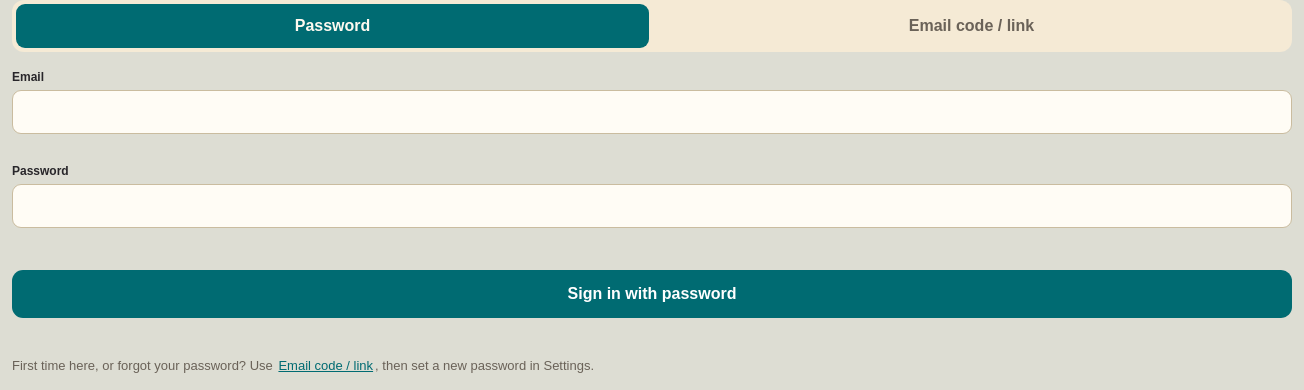
Test: in-app email login › shows email rate limits without moving to the verification step
The image size is (1304, 390).
Step 1. Click the tab "Email code / link" → (972, 26), box [655,4,1288,48]
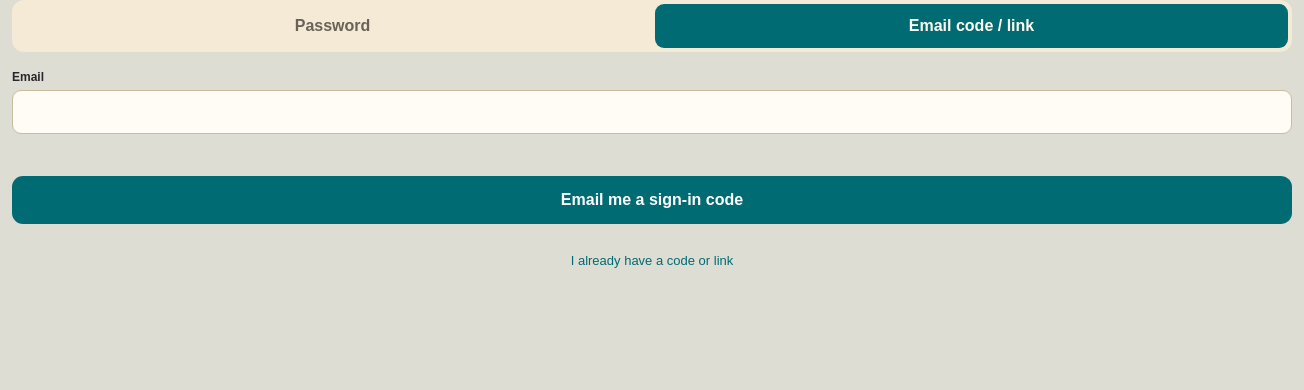
Step 2. Type "traveller@example.com" into the field labelled "Email" → (652, 112), box [12,90,1292,134]
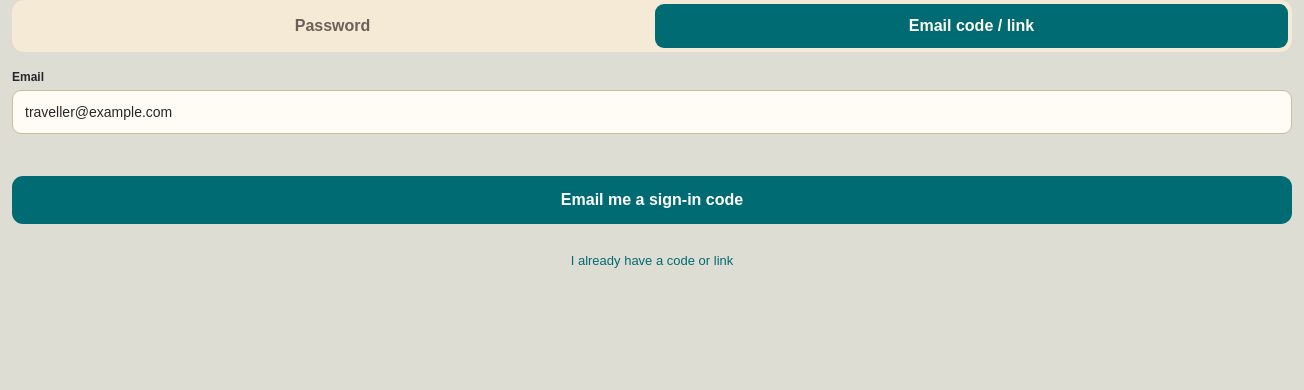
Step 3. Click the button "Email me a sign-in code" → (652, 200), box [12,176,1292,224]
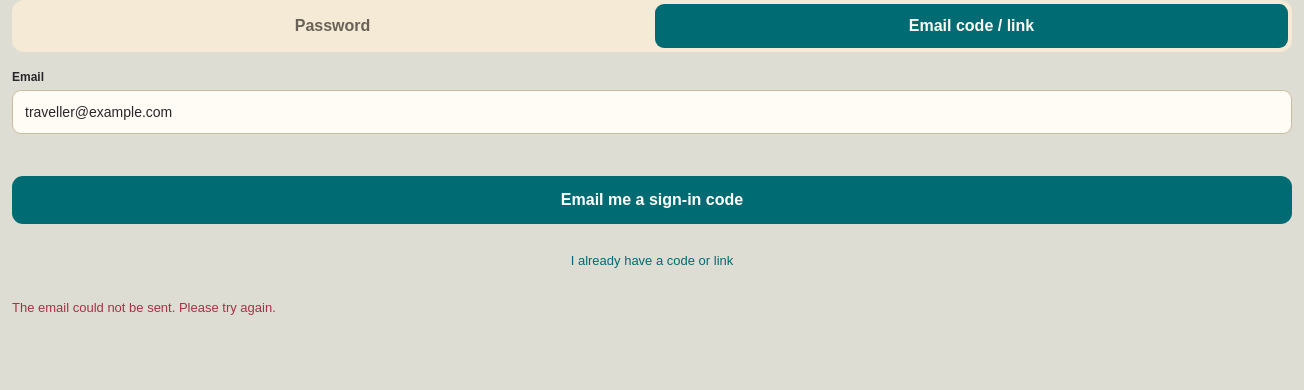
Result: the message shows "email could not be sent" at [12,300,276,315]
